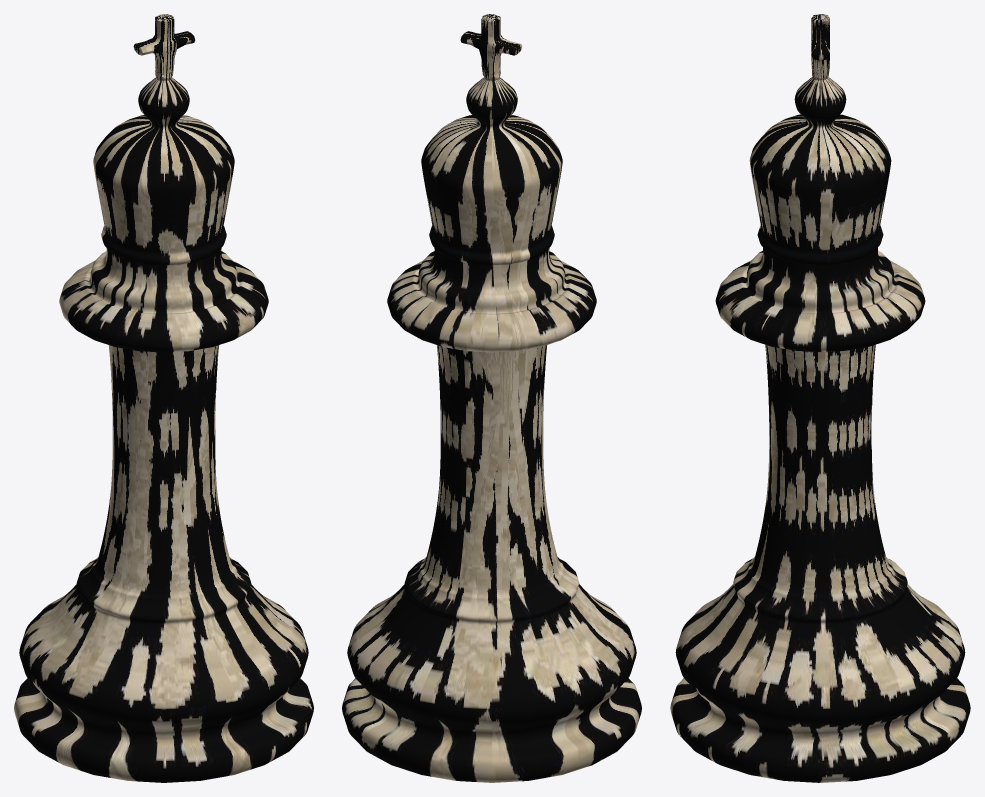
The model's file is king.obj.
3 views of the same model, side by side, from view 1: azimuth 30°, elevation 25°; view 2: azimuth 150°, elevation 25°; view 3: azimuth 270°, elevation 25° (orthographic).
Parts seen in each view (by area): view 1: King; view 2: King; view 3: King.
Boxes of the visible parts, x1,y1,x2,y2 form: King: (14,14,313,782); King: (342,14,641,782); King: (670,14,970,782).
Size of the model in its own units: 14.66 by 39.26 by 14.66.
Materials: 1 (1 with a texture image).
